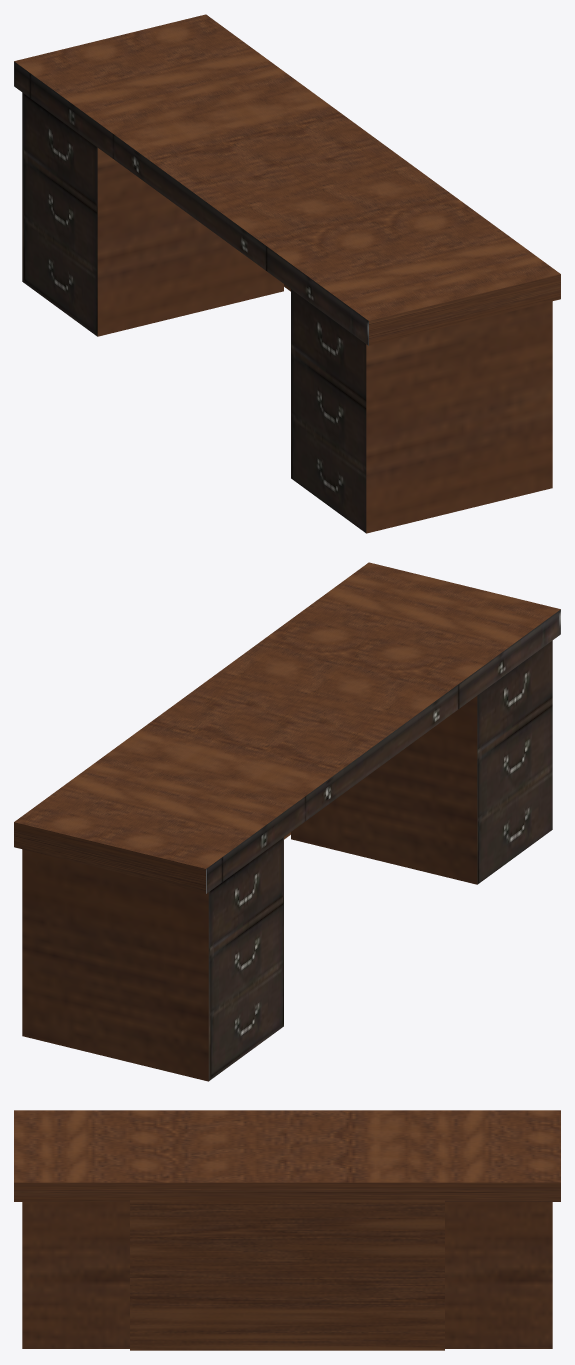
Rendered from desk.glb.
3 views of the same model, one above another, from view 1: azimuth 30°, elevation 25°; view 2: azimuth 150°, elevation 25°; view 3: azimuth 270°, elevation 25° (orthographic). The views are drawn at different scales.
Visible parts, largest first — view 1: Cube.005, Cube.003, Cube.004, Cube.001, Cube, Cube.002; view 2: Cube.005, Cube.004, Cube.003, Cube, Cube.001, Cube.002; view 3: Cube.005, Plane, Cube.003, Cube.004.
Part boxes in pixels (x1,y1,x2,y2): Cube.005: (14,14,560,345); Cube.003: (366,301,552,533); Cube.004: (97,148,283,336); Cube.001: (22,92,97,336); Cube: (291,289,366,532); Cube.002: (14,61,368,345); Cube.005: (14,562,560,893); Cube.004: (22,849,208,1081); Cube.003: (291,696,477,884); Cube: (477,640,552,884); Cube.001: (208,837,283,1080); Cube.002: (206,609,560,893); Cube.005: (14,1110,560,1201); Plane: (130,1200,444,1350); Cube.003: (22,1202,129,1348); Cube.004: (445,1202,552,1348).
Size of the model in its own units: 2.08 by 2.23 by 6.6.
Materials: 2 (2 with a texture image).
